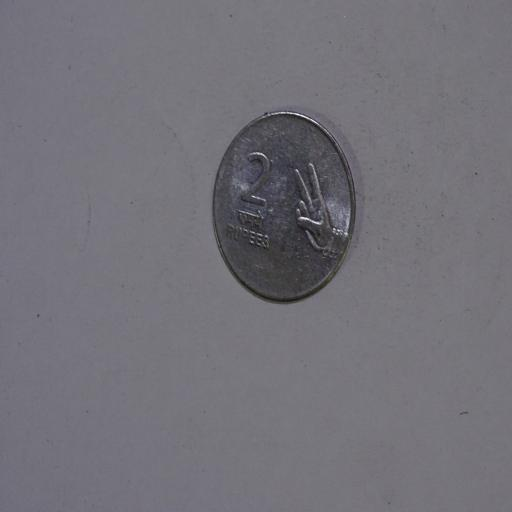rupee2: (211, 111, 358, 304)
